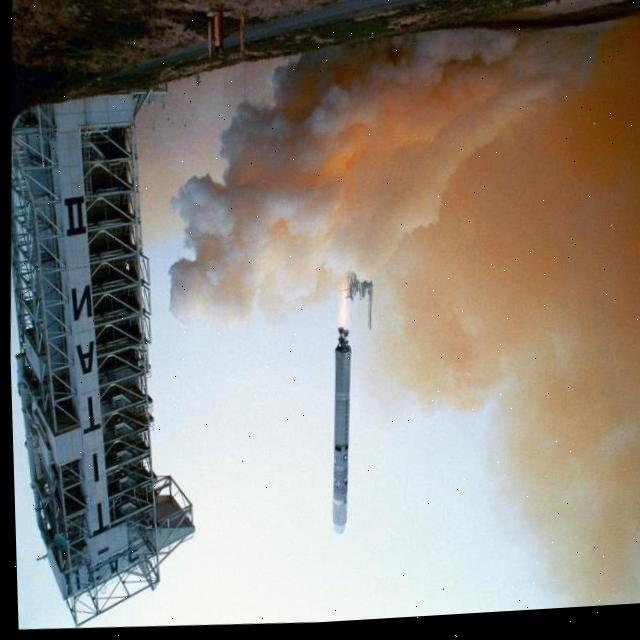missile: (313, 328, 360, 541)
